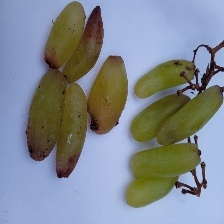grapes: (21, 0, 167, 190)
